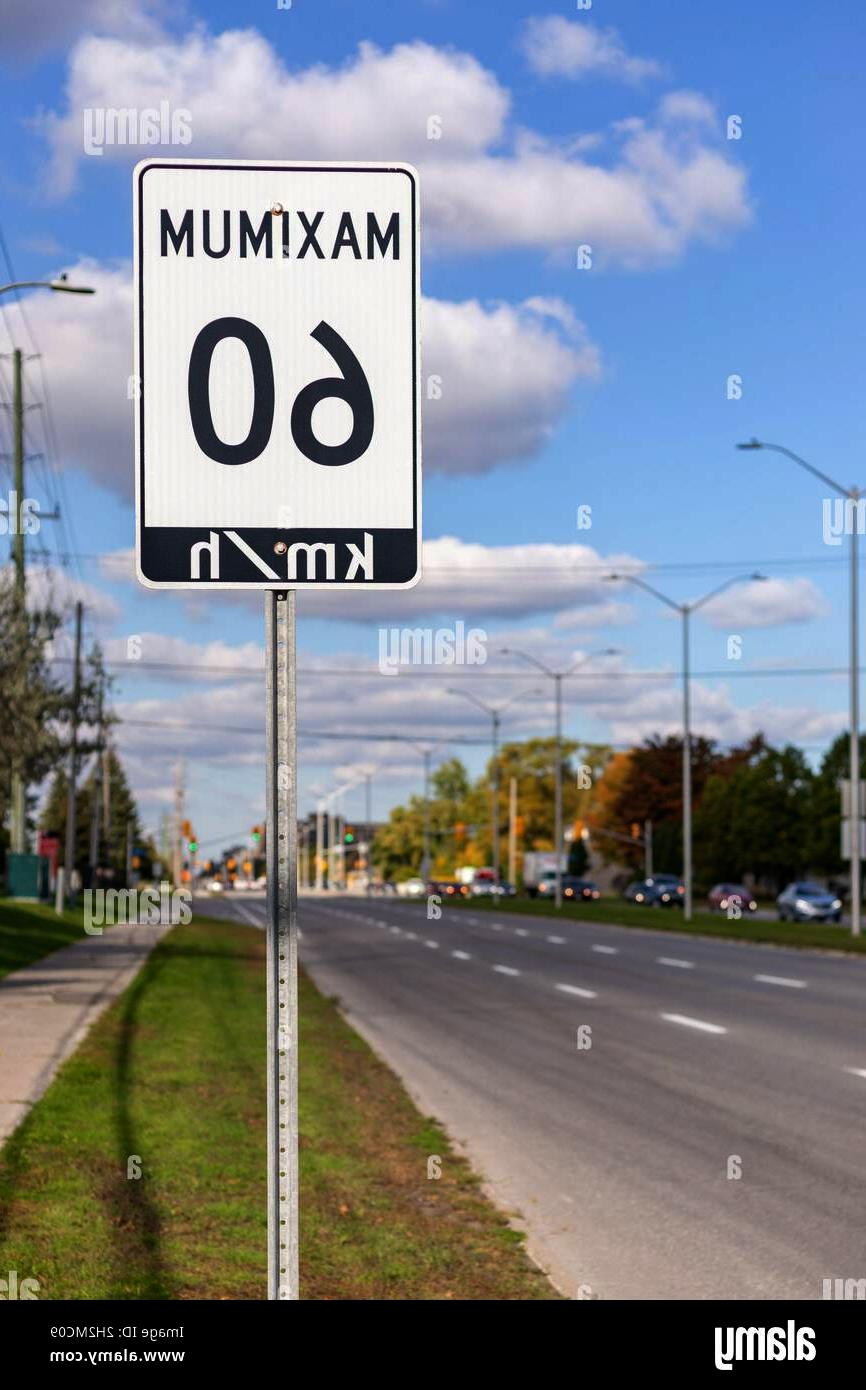speed limit sign: (133, 157, 421, 592)
